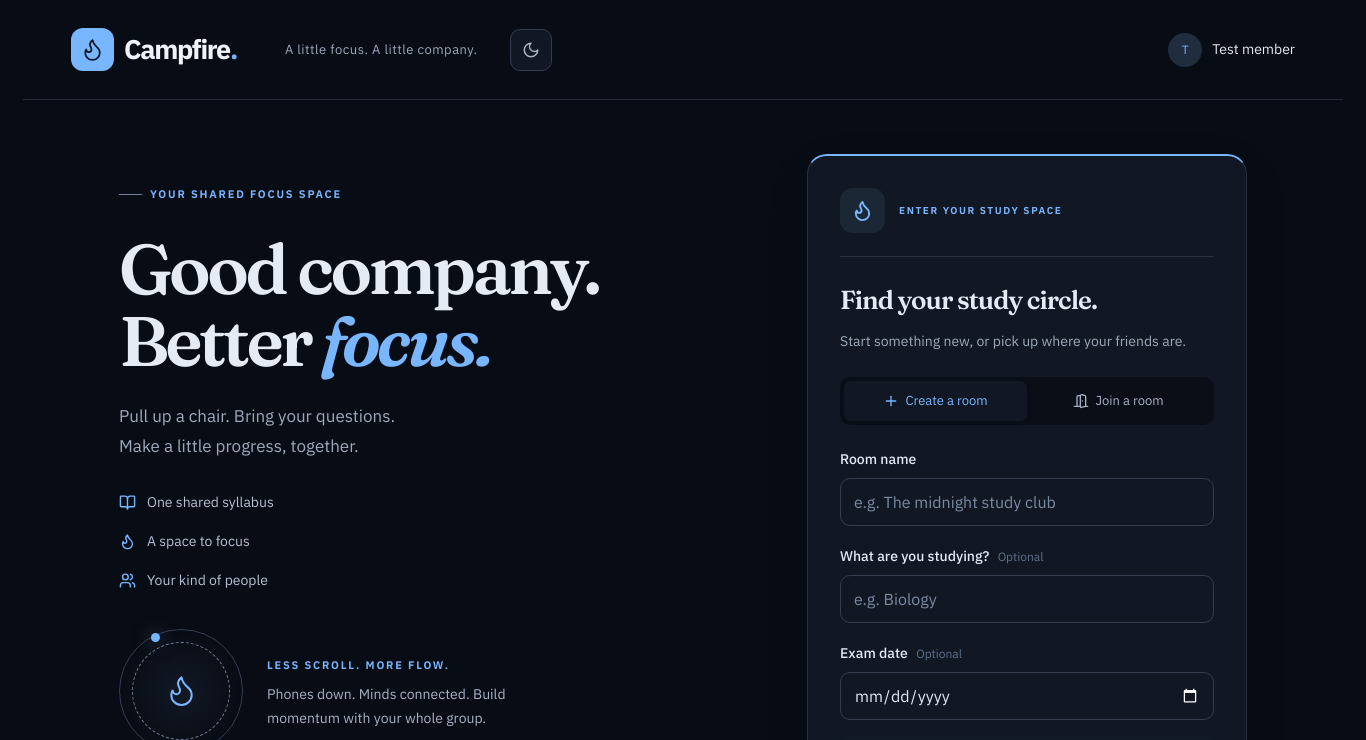
Campfire app integration › joins by room code and opens the returned room
Click the button "Join a room": point(1118, 401) [1027,381,1210,421]
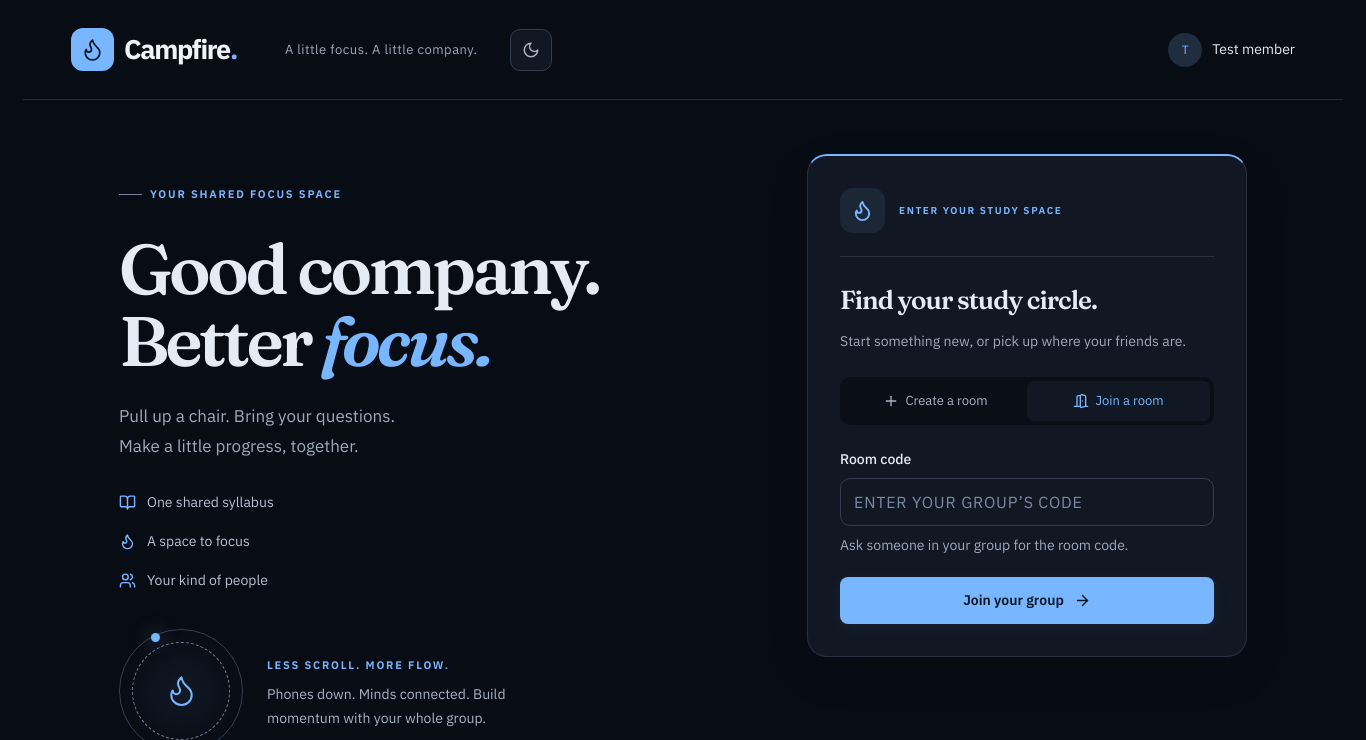
In the field labelled "Room code": point(1027, 502) [840,478,1214,526], type "CAMPFIRE88"
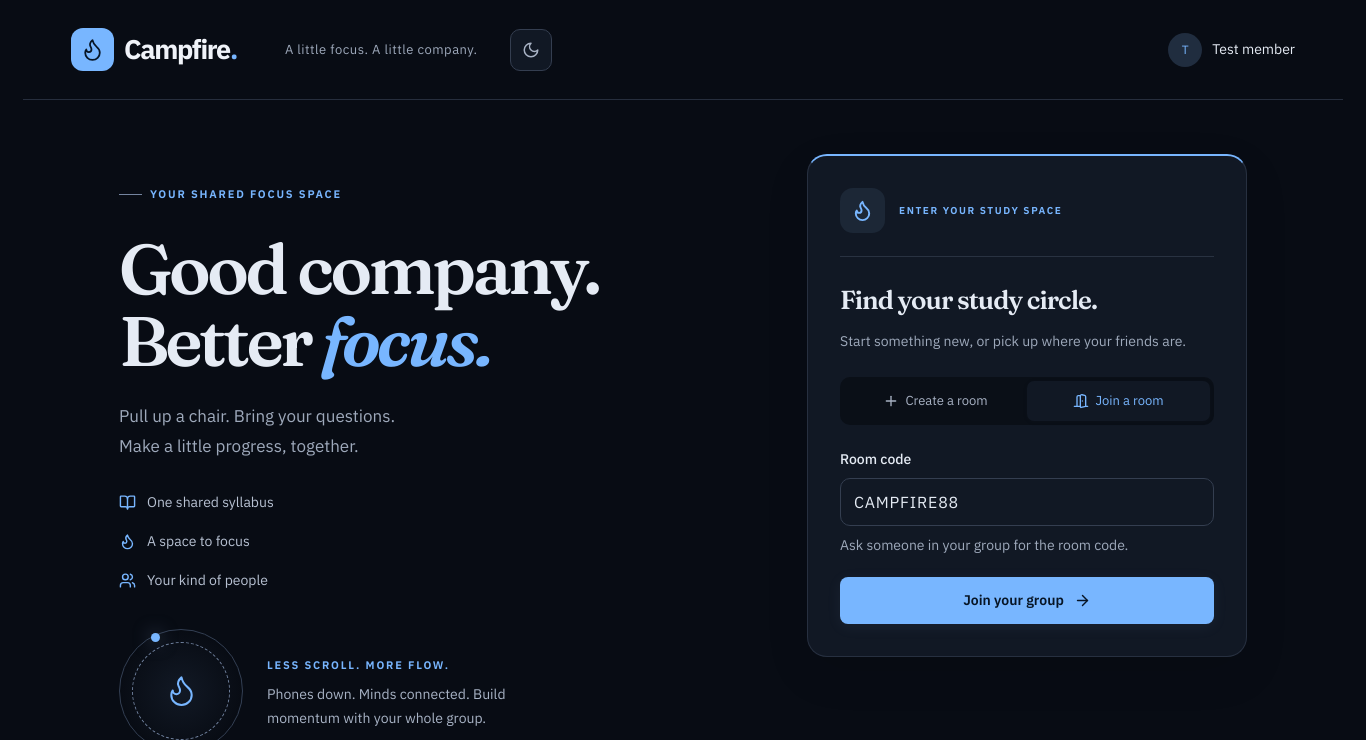
Click the button "Join your group": point(1027, 600) [840,577,1214,624]
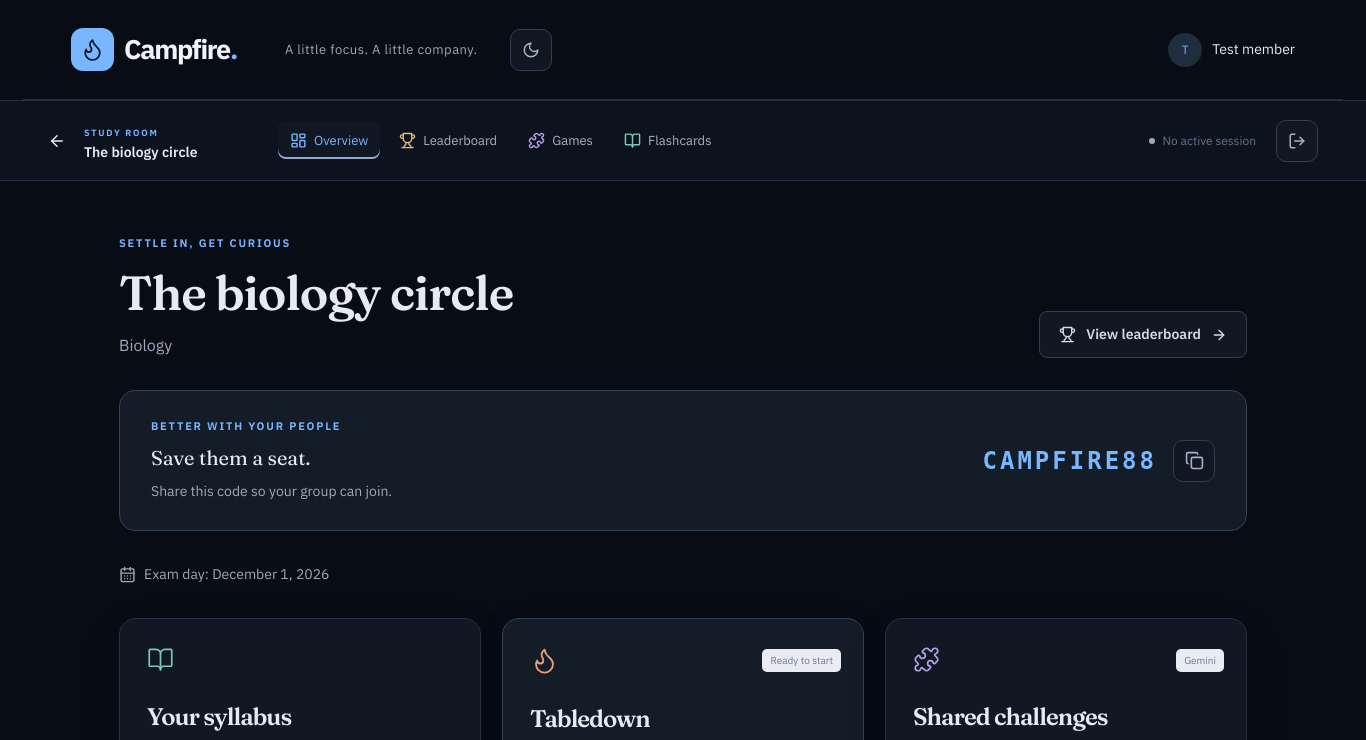
Expected: the heading "The biology circle" is shown, [119,265,513,320]
